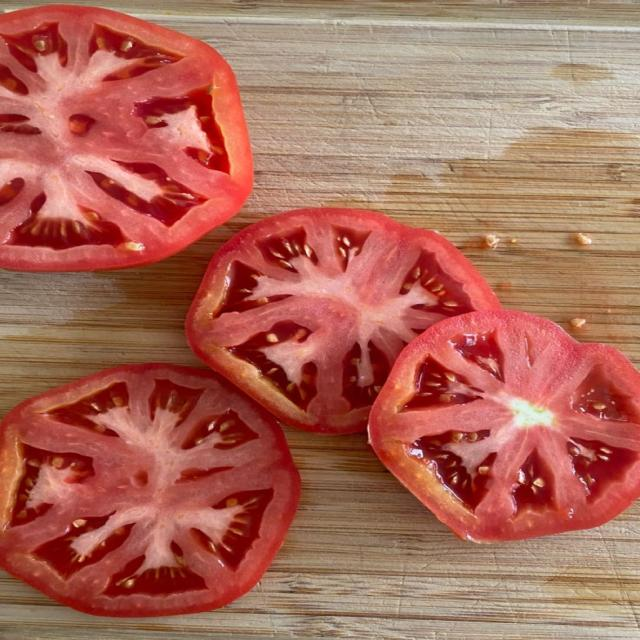sliced_tomato: (0, 365, 299, 616), (187, 209, 499, 433), (0, 6, 252, 270), (369, 311, 639, 542)
